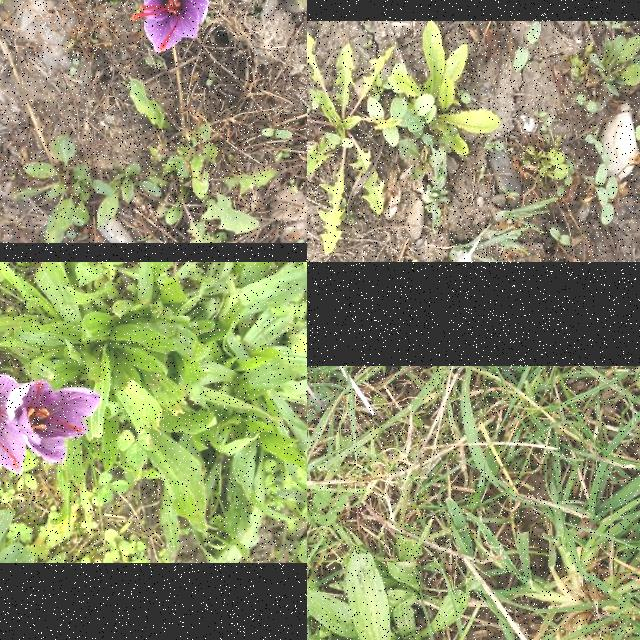flower: (6, 381, 102, 463), (131, 0, 210, 53), (0, 374, 26, 476)
